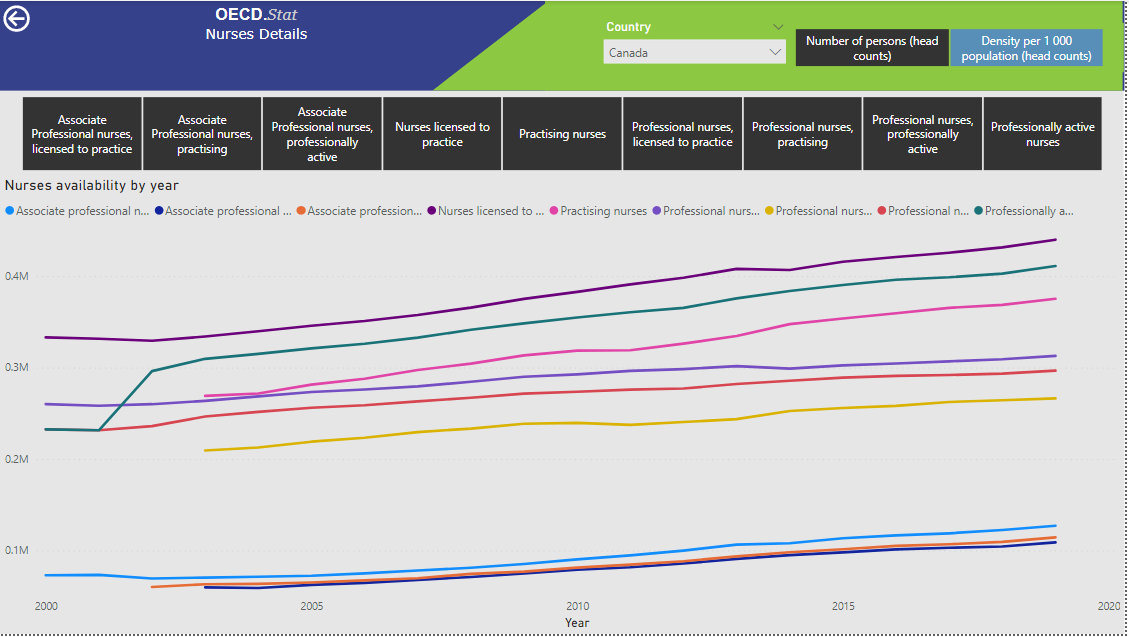

This screenshot's page, from the dashboard's own definition file:
{"tool":"powerbi","page":{"name":"Nurses Details","canvas":[1280,720],"ordinal":4},"visuals":[{"type":"shape","box":[1.2,0,1278.8,102],"z":0},{"type":"shape","box":[492.2,0,132.4,101.5],"z":1000},{"type":"shape","box":[621.6,0,657.2,102],"z":2000},{"type":"slicer","fields":{"Values":["Nurses.Measure"]},"box":[880.4,25,399.2,55.7],"z":3000},{"type":"slicer","fields":{"Values":["Nurses.Categories"]},"box":[1.2,102,1277.5,97],"z":4000},{"type":"lineChart","title":"Nurses availability by year","fields":{"Category":["Date.Year"],"Y":["Sum(Nurses.Associate Professional nurses, licensed to practice)","Sum(Nurses.Associate Professional nurses, practising)","Sum(Nurses.Associate Professional nurses, professionally active)","Sum(Nurses.Nurses licensed to practice)","Sum(Nurses.Practising nurses)","Sum(Nurses.Professional nurses, licensed to practice)","Sum(Nurses.Professional nurses, practising)","Sum(Nurses.Professional nurses, professionally active)","Sum(Nurses.Professionally active nurses)"]},"box":[1.2,199,1278.8,520.8],"z":5000},{"type":"actionButton","box":[0,0,100,40],"z":6000},{"type":"slicer","fields":{"Values":["Country.Country"]},"box":[677.9,15.9,227.5,64.8],"z":7000},{"type":"textbox","box":[193.9,0.2,198.5,71.9],"z":9000}]}

Visuals, with their boxes in screenshot pixels (x1, y1, x2, y2), scaled from the page's 1280x720 canvas onto the 1129x637 screenshot:
shape: 1/0/1128/90
shape: 434/0/551/90
shape: 548/0/1128/90
slicer - Nurses.Measure: 777/22/1128/71
slicer - Nurses.Categories: 1/90/1128/176
"Nurses availability by year" lineChart: 1/176/1128/636
actionButton: 0/0/88/35
slicer - Country.Country: 598/14/799/71
textbox: 171/0/346/64
